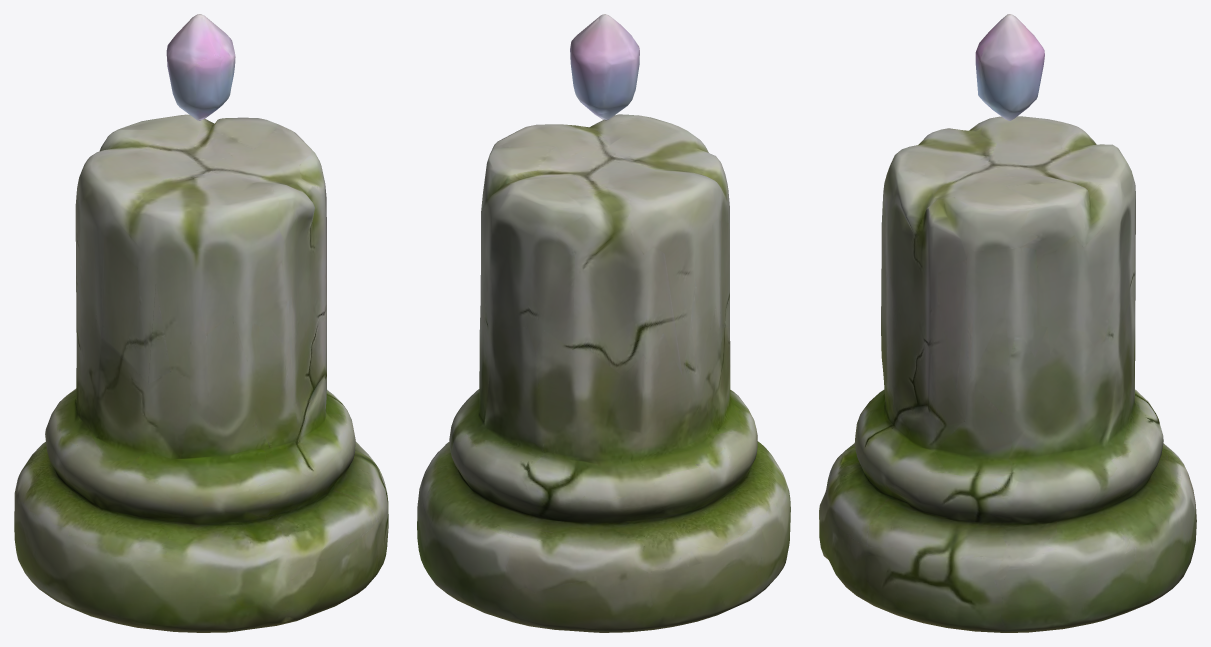
The model's file is pillar.glb.
3 views of the same model, side by side, from view 1: azimuth 30°, elevation 25°; view 2: azimuth 150°, elevation 25°; view 3: azimuth 270°, elevation 25° (orthographic).
Bounding box in the file's own units: 1.22 × 2 × 1.23.
1 material, 1 textured.
